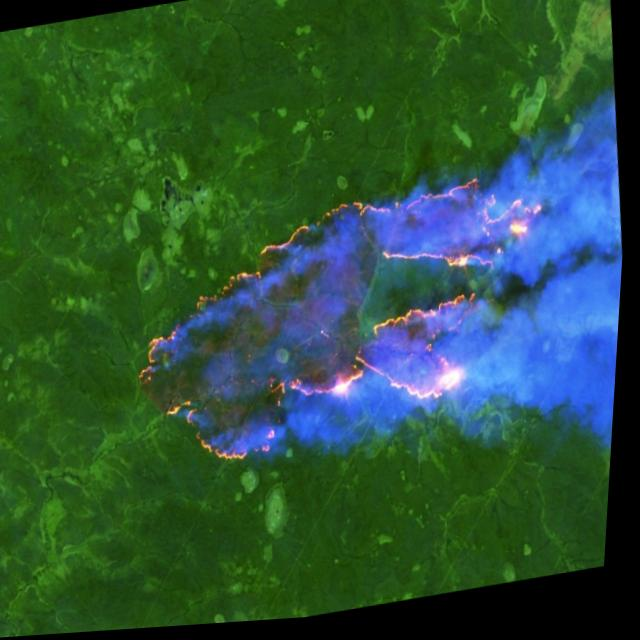fire: (121, 164, 573, 487)
